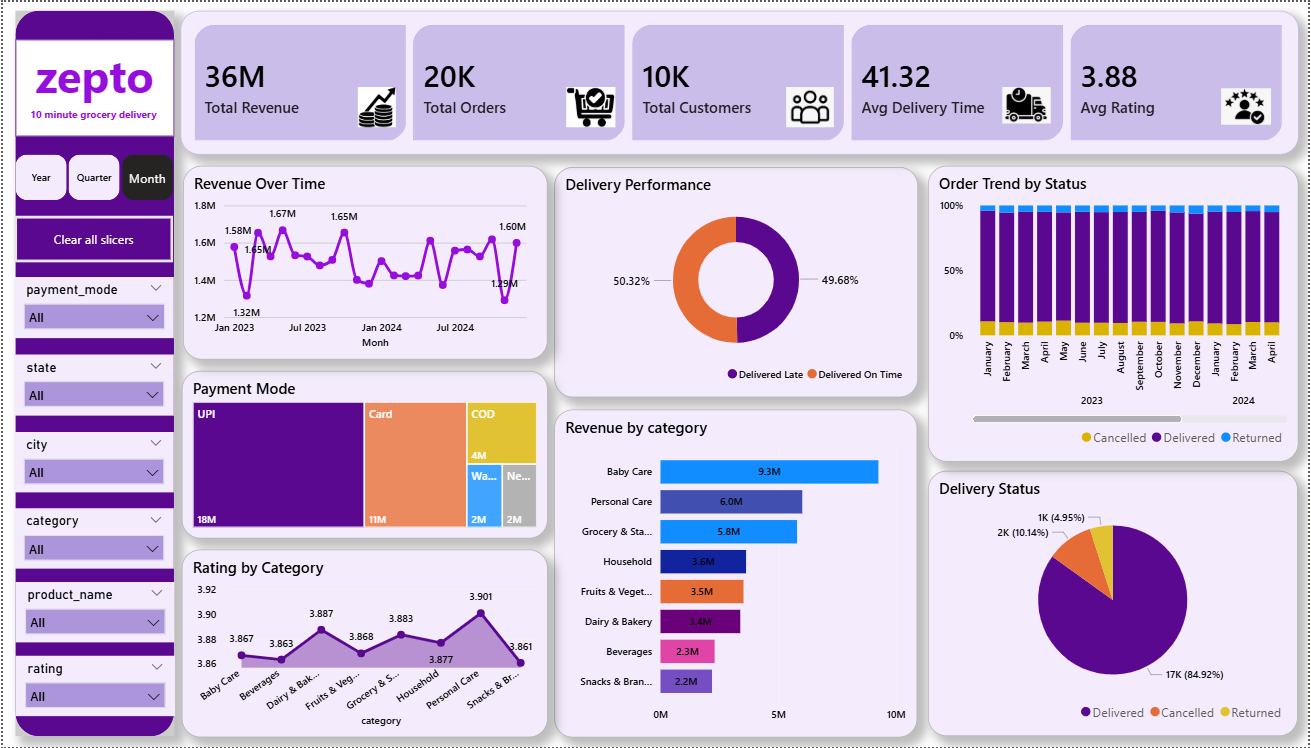

The page's visual inventory and layout, read from the dashboard file:
{"tool":"powerbi","page":{"name":"Page 2","canvas":[1400,800],"ordinal":0},"visuals":[{"type":"shape","box":[12.9,10,170,778.6],"z":0},{"type":"textbox","box":[12.9,40,170.3,104.3],"z":1000},{"type":"donutChart","title":"Delivery Performance","fields":{"Series":["delivery.delivery_status"],"Y":["order.Total Orders"]},"box":[591.4,177.1,390,247.1],"z":3000},{"type":"treemap","title":"Payment Mode","fields":{"Group":["transaction.payment_mode"],"Values":["transaction.Total Revenue"]},"box":[191.4,395.7,392.9,180],"z":4000},{"type":"slicer","fields":{"Values":["transaction.payment_mode"]},"box":[12.7,295.3,171.3,65.3],"z":6000},{"type":"cardVisual","fields":{"Data":["transaction.Total Revenue","order.Total Orders","customer.Total Customers","delivery.Avg Delivery Time","rating.Avg Rating"]},"box":[190,10,1200,154.3],"z":7000},{"type":"barChart","title":"Revenue by category","fields":{"Category":["product.category"],"Series":["product.category"],"Y":["transaction.Total Revenue"]},"box":[591.9,437.2,389.6,351.6],"z":8000},{"type":"pieChart","title":"Delivery Status","fields":{"Category":["order.order_status"],"Y":["order.Total Orders"]},"box":[992.4,503.7,396.4,285.1],"z":9000},{"type":"areaChart","title":"Rating by Category","fields":{"Category":["product.category"],"Y":["rating.Avg Rating"]},"box":[191.4,587.1,392.9,201.4],"z":10000},{"type":"image","box":[352.5,91.7,96.7,43.3],"z":11000},{"type":"image","box":[600,91.7,62.5,43.3],"z":12000},{"type":"image","box":[815.6,91.2,100.6,42.9],"z":13000},{"type":"image","box":[1032,91,134,39],"z":14000},{"type":"image","box":[1277.8,92.2,111.1,38.9],"z":15000},{"type":"hundredPercentStackedColumnChart","title":"Order Trend by Status","fields":{"Category":["order.order_date.Variation.Date Hierarchy.Year","order.order_date.Variation.Date Hierarchy.Month"],"Series":["order.order_status"],"Y":["CountNonNull(order.order_status)"]},"box":[992,176,397.3,317.3],"z":17000},{"type":"bookmarkNavigator","box":[13,164,170,49],"z":18000},{"type":"areaChart","title":"Revenue Over Time","fields":{"Category":["order.order_date.Variation.Date Hierarchy.Year","order.order_date.Variation.Date Hierarchy.Month"],"Y":["transaction.Total Revenue"]},"box":[193,176,391,208],"z":20000},{"type":"slicer","fields":{"Values":["customer.state"]},"box":[12.7,378.7,171,65.3],"z":21000},{"type":"slicer","fields":{"Values":["customer.city"]},"box":[12,461,171,65],"z":22000},{"type":"slicer","fields":{"Values":["product.category"]},"box":[12,543,171,65],"z":23000},{"type":"slicer","fields":{"Values":["rating.rating"]},"box":[13,701,171,65],"z":24000},{"type":"slicer","fields":{"Values":["product.product_name"]},"box":[12.9,622.9,170.7,65],"z":25000},{"type":"actionButton","box":[12,230,170.7,50],"z":26000}]}

Visuals, with their boxes in screenshot pixels (x1, y1, x2, y2), scaled from the page's 1400x800 canvas onto the 1311x748 screenshot:
shape: bbox(12, 9, 171, 737)
textbox: bbox(12, 37, 172, 135)
"Delivery Performance" donutChart: bbox(554, 166, 919, 397)
"Payment Mode" treemap: bbox(179, 370, 547, 538)
slicer - transaction.payment_mode: bbox(12, 276, 172, 337)
cardVisual - transaction.Total Revenue x order.Total Orders: bbox(178, 9, 1302, 154)
"Revenue by category" barChart: bbox(554, 409, 919, 738)
"Delivery Status" pieChart: bbox(929, 471, 1301, 738)
"Rating by Category" areaChart: bbox(179, 549, 547, 737)
image: bbox(330, 86, 421, 126)
image: bbox(562, 86, 620, 126)
image: bbox(764, 85, 858, 125)
image: bbox(966, 85, 1092, 122)
image: bbox(1197, 86, 1301, 123)
"Order Trend by Status" hundredPercentStackedColumnChart: bbox(929, 165, 1301, 461)
bookmarkNavigator: bbox(12, 153, 171, 199)
"Revenue Over Time" areaChart: bbox(181, 165, 547, 359)
slicer - customer.state: bbox(12, 354, 172, 415)
slicer - customer.city: bbox(11, 431, 171, 492)
slicer - product.category: bbox(11, 508, 171, 568)
slicer - rating.rating: bbox(12, 655, 172, 716)
slicer - product.product_name: bbox(12, 582, 172, 643)
actionButton: bbox(11, 215, 171, 262)
